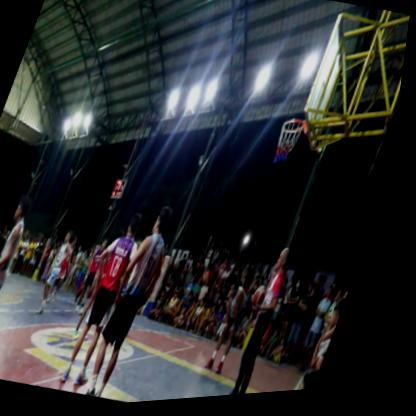basketball: (254, 285, 280, 320)
rim: (267, 113, 317, 179)
